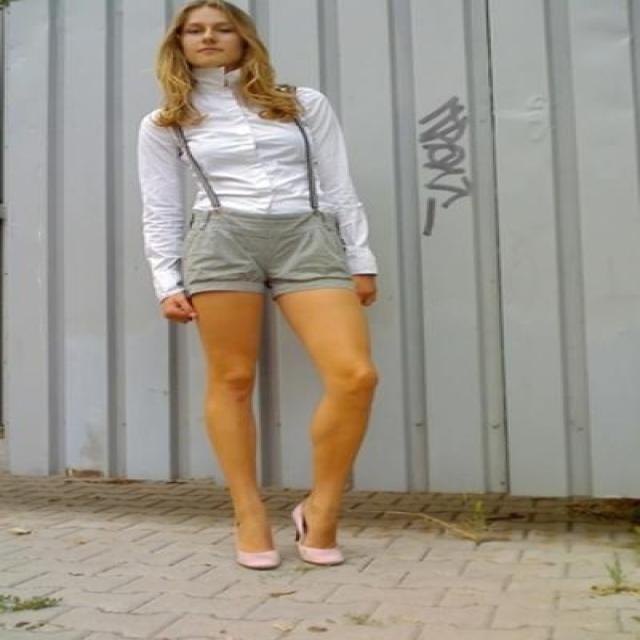shirt: (134, 68, 376, 294)
shoe: (237, 545, 341, 565)
shorts: (173, 192, 363, 304)
